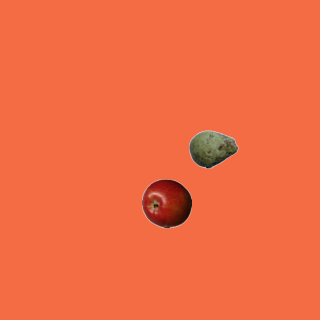Apple Braeburn: (141, 178, 191, 228)
Pear Stone: (188, 124, 238, 174)
